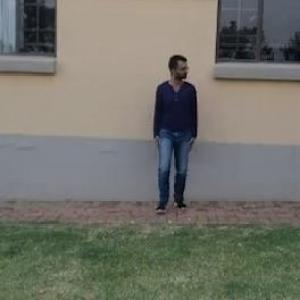follow: (152, 52, 199, 209)
